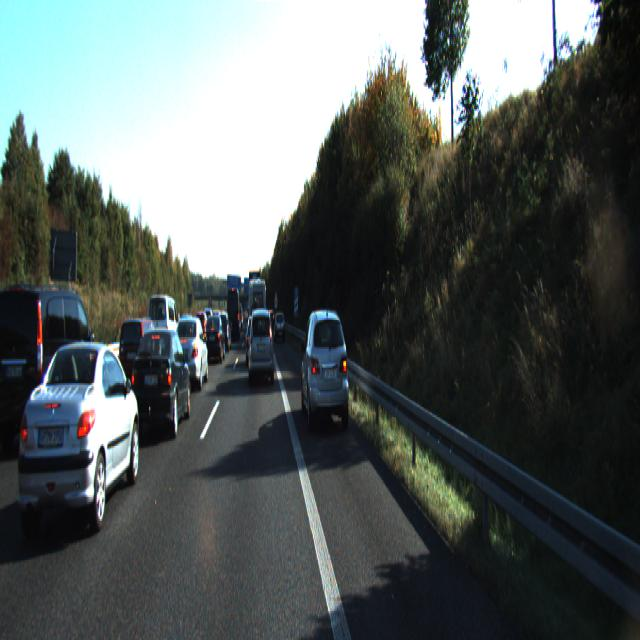Car: (15, 335, 146, 550), (0, 283, 102, 456), (130, 324, 192, 444), (300, 306, 349, 434), (117, 315, 164, 391), (170, 315, 209, 393), (146, 292, 181, 367), (249, 308, 275, 388), (248, 277, 266, 344), (204, 312, 226, 363), (228, 288, 242, 343), (214, 312, 231, 352), (274, 312, 286, 342)
